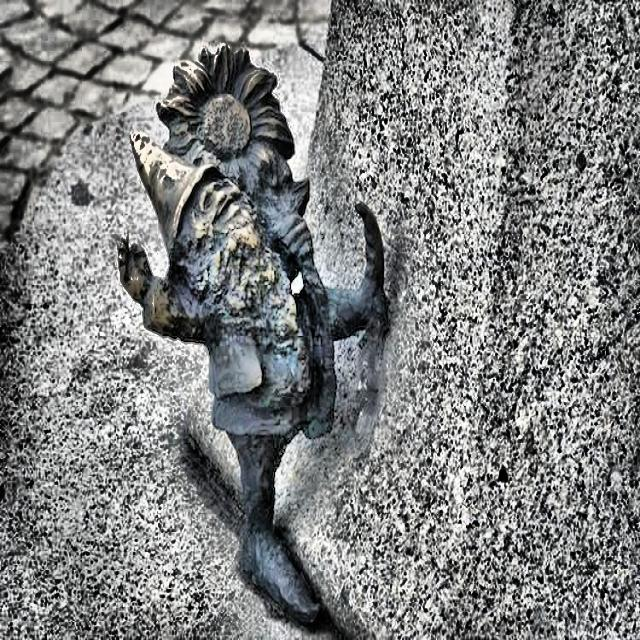Zyczliwek: (119, 47, 385, 623)
